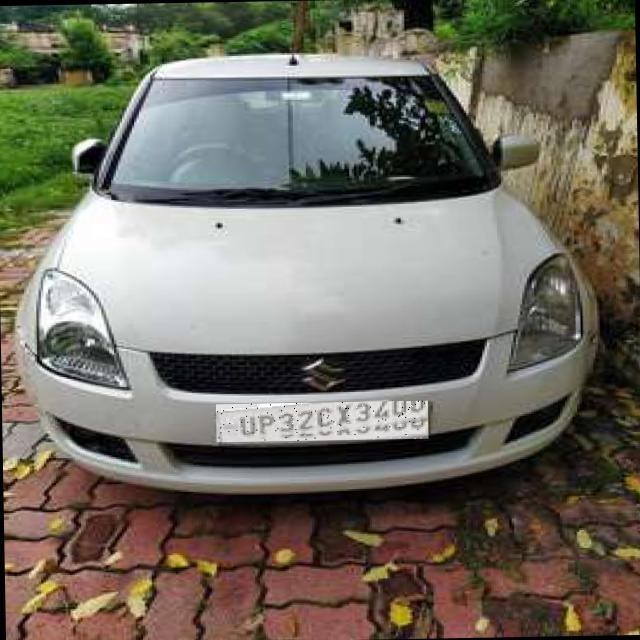Plate: (217, 402, 430, 444)
